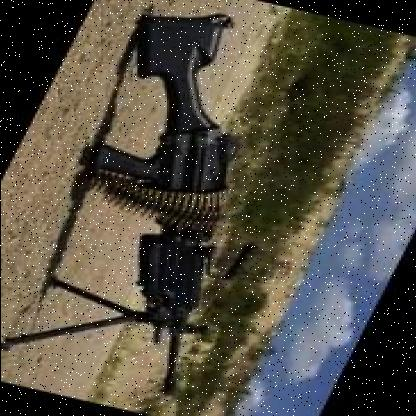rifle: (0, 0, 373, 398)
